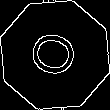O_E: (24, 27, 86, 83)
